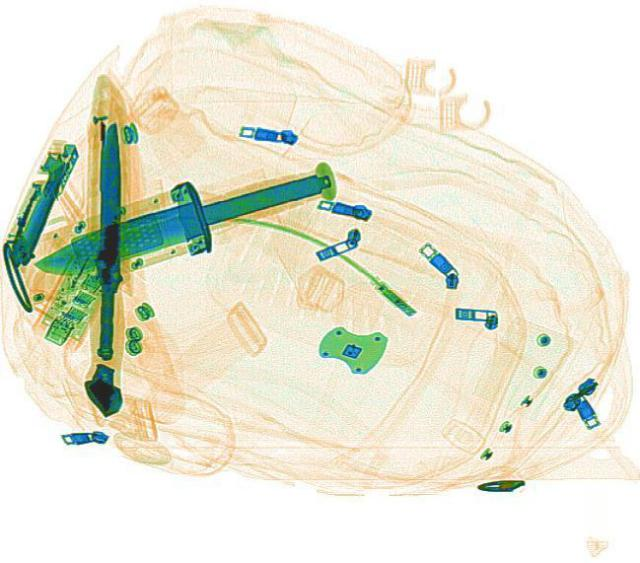Knife: (16, 141, 348, 296)
